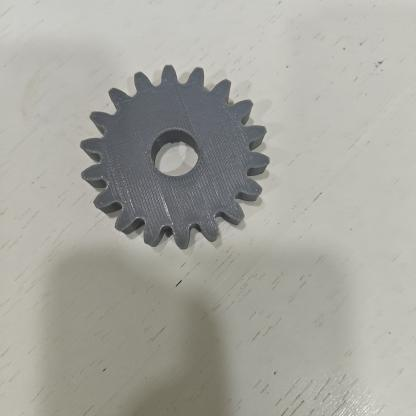gear: (73, 55, 284, 263)
